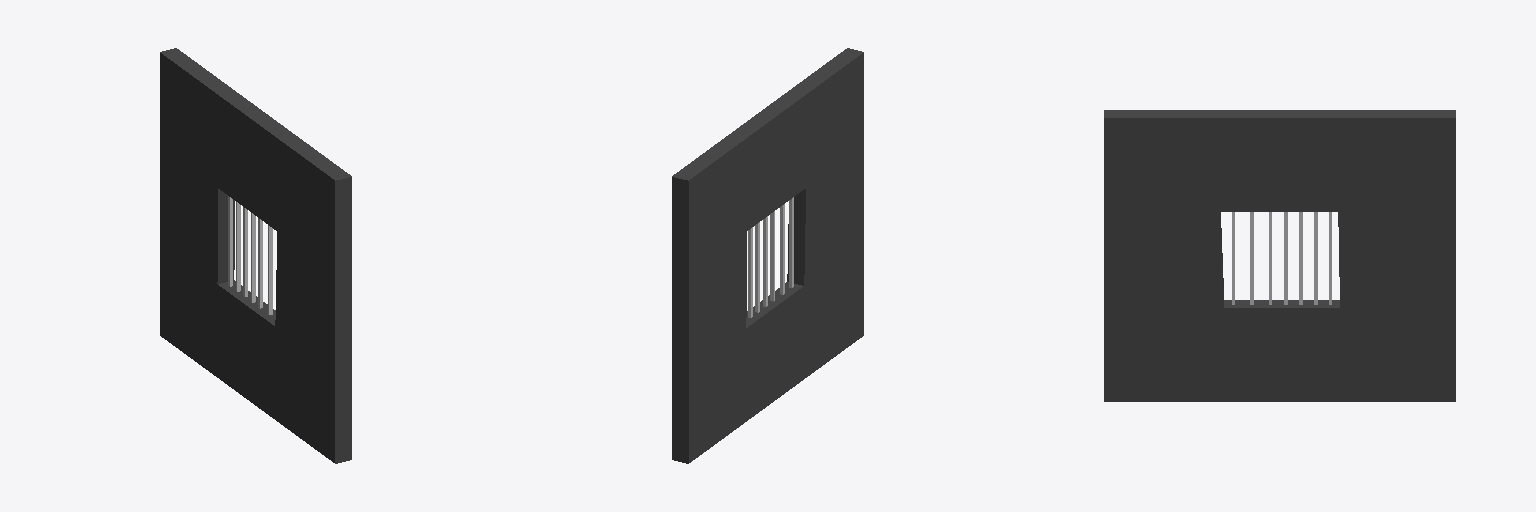
The model's file is paredventana4.obj.
3 renders of one model, left to right at view 1: azimuth 30°, elevation 25°; view 2: azimuth 150°, elevation 25°; view 3: azimuth 270°, elevation 25°, orthographic.
Visible parts, largest first — view 1: Cube; view 2: Cube; view 3: Cube.
Part boxes in pixels (left/top/right/bottom): Cube: left=160, top=48, right=351, bottom=463; Cube: left=672, top=48, right=863, bottom=463; Cube: left=1104, top=110, right=1455, bottom=401.
Bounding box in the file's own units: 0.25 × 4 × 4.5.